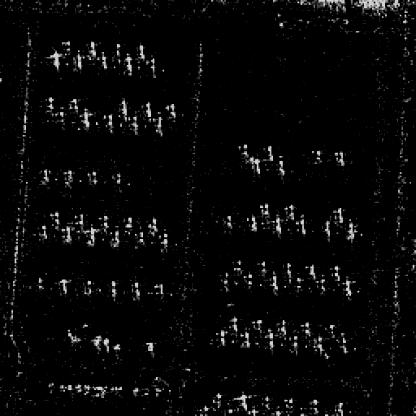airplane: (336, 332, 352, 354), (340, 278, 356, 299), (320, 218, 335, 240), (312, 335, 328, 354), (325, 322, 341, 341), (60, 39, 75, 59), (146, 216, 161, 236), (47, 50, 63, 68), (343, 219, 357, 239), (218, 271, 232, 291), (128, 278, 142, 297), (83, 169, 99, 185), (294, 216, 310, 232), (146, 55, 160, 73), (152, 112, 166, 130), (107, 171, 125, 185), (96, 213, 110, 231), (249, 158, 263, 176), (308, 143, 322, 161), (267, 273, 281, 291), (306, 262, 320, 280), (239, 330, 253, 348), (95, 54, 110, 70), (120, 57, 135, 73), (65, 96, 80, 112), (107, 231, 122, 247), (234, 143, 250, 158), (332, 203, 344, 223), (53, 107, 66, 125), (117, 99, 130, 117), (273, 159, 286, 177), (210, 392, 223, 410), (123, 213, 135, 232), (107, 278, 119, 297), (262, 145, 274, 164), (299, 320, 314, 335), (36, 224, 50, 240), (148, 280, 164, 294), (332, 150, 346, 166), (214, 328, 228, 344), (135, 42, 146, 62), (72, 52, 84, 70), (86, 39, 98, 57), (112, 42, 124, 60), (140, 100, 152, 118), (72, 211, 86, 226), (256, 258, 270, 273), (292, 276, 306, 291), (78, 106, 89, 125), (100, 112, 113, 128), (60, 226, 73, 242), (83, 228, 96, 244), (135, 228, 148, 244), (232, 257, 245, 273), (262, 333, 278, 346), (228, 315, 240, 332), (61, 168, 72, 186), (236, 392, 247, 410), (162, 102, 176, 116), (282, 395, 296, 409), (281, 260, 294, 275), (42, 96, 54, 112), (47, 212, 63, 224), (55, 275, 67, 291), (284, 203, 296, 219), (244, 272, 256, 288), (315, 276, 327, 292), (288, 333, 300, 349), (333, 398, 345, 414), (245, 215, 258, 229), (271, 216, 283, 231), (39, 166, 50, 182), (330, 265, 341, 281), (310, 396, 320, 413), (252, 317, 265, 330), (128, 114, 138, 130), (83, 278, 93, 294), (258, 200, 270, 213), (278, 319, 289, 333), (224, 211, 234, 226), (260, 395, 271, 408), (32, 274, 42, 288), (158, 232, 168, 245), (196, 404, 209, 414), (247, 406, 258, 414), (273, 406, 283, 414)
